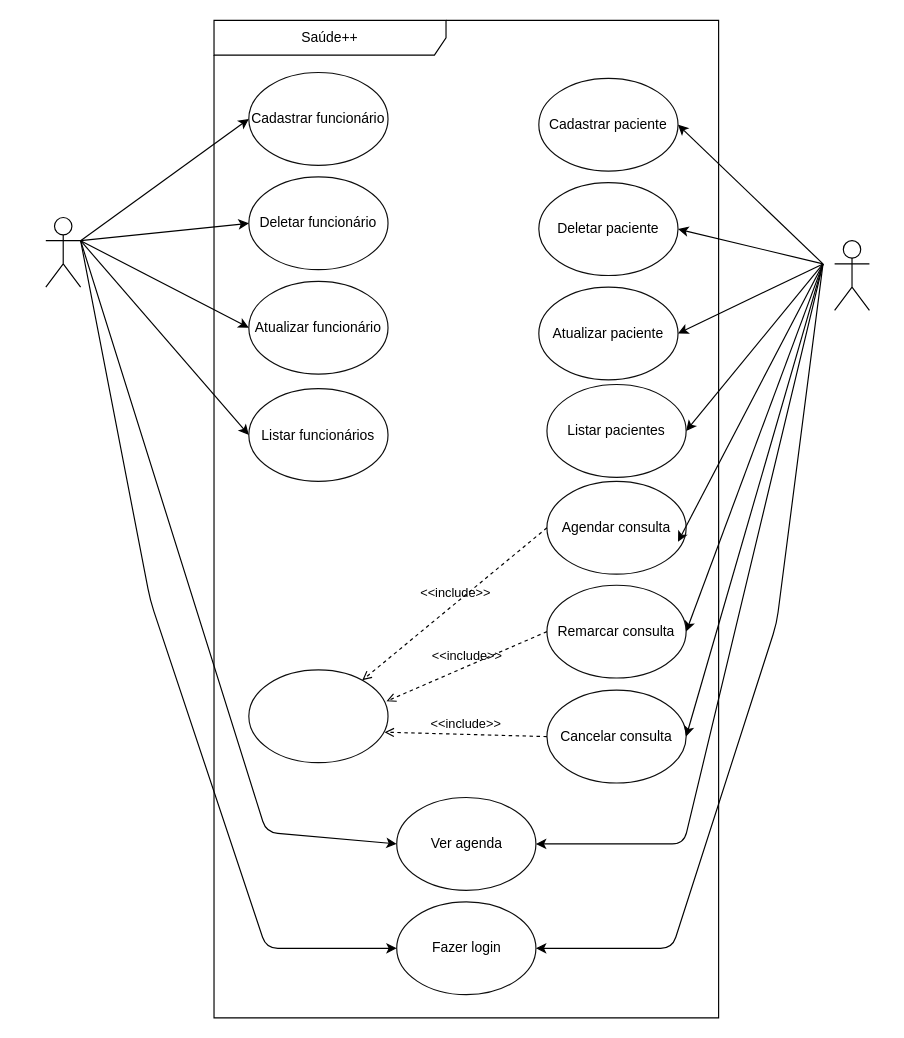
The diagram is 904 pixels wide and 1038 high, and some of its shapes have lost their labels. Each missing label, with the centre of its shape:
Administrador: point 63,251
Atendente: point 851,275
Atualizar agenda: point 318,716
